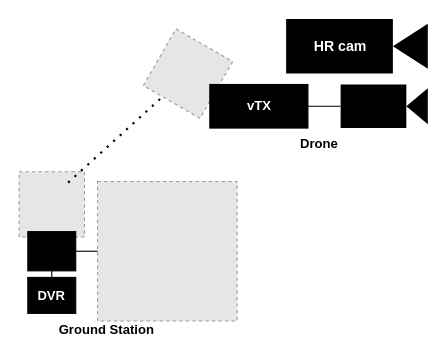
Image size: 447x364. Some labels were removed from this diagram. Grey dashed boxes stand in for pictures. Each missing label, with the centre of its shape:
"LR cam" belongs at pixel 383 106.
"vRX" belongs at pixel 51 251.
